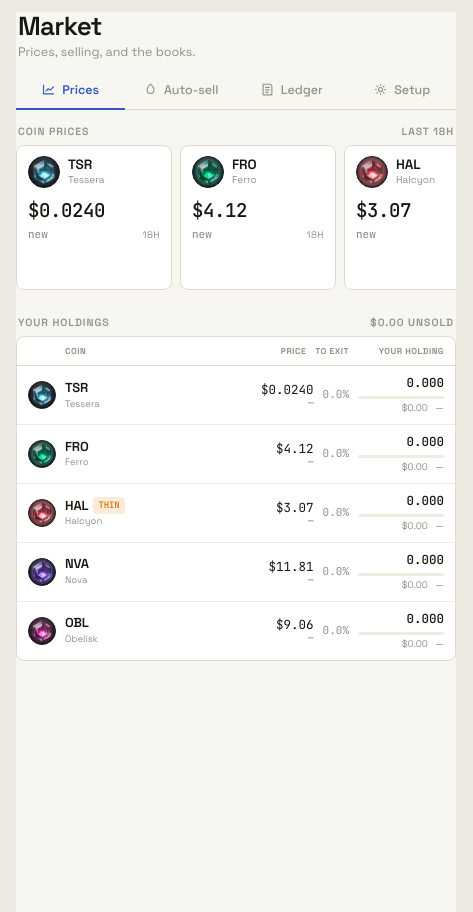
Test: MarketView › the drip settings, ledger and setup each live behind their own segment
Click the tab with class "segtab" showing "Auto-sell" at (181, 90), box [126,71,235,110]
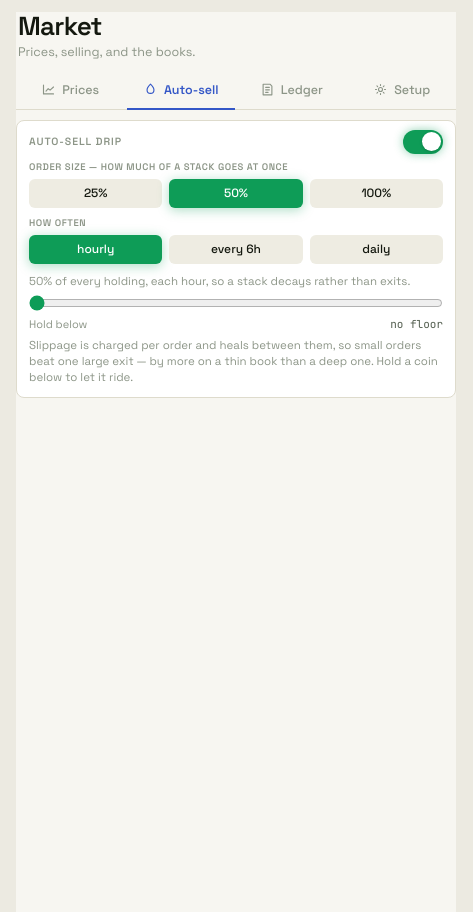
Result: the panel with id "mkpan-drip" shows "Order size" at [29,161,288,173]
Click the tab with class "segtab" showing "Ledger" at (291, 90), box [237,71,346,110]
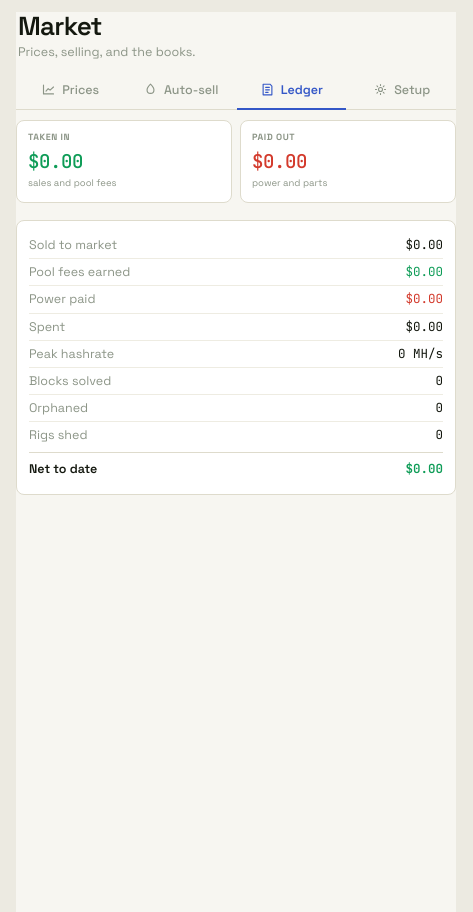
Result: the panel with id "mkpan-ledger" shows "Net to date" at [29,461,97,477]
Result: the panel with id "mkpan-ledger" shows "Taken in" at [28,131,70,143]
Click the tab with class "segtab" showing "Setup" at (402, 90), box [348,71,456,110]
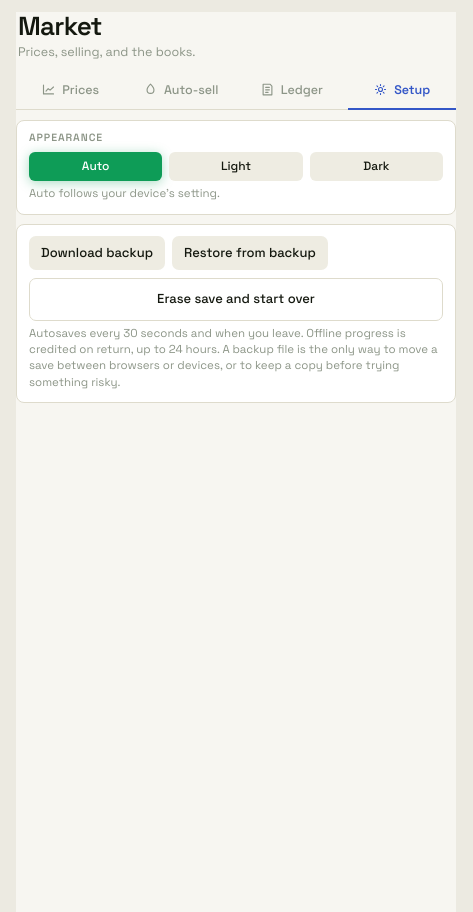
Result: the panel with id "mkpan-setup" shows "Erase save" at [29,278,443,321]
